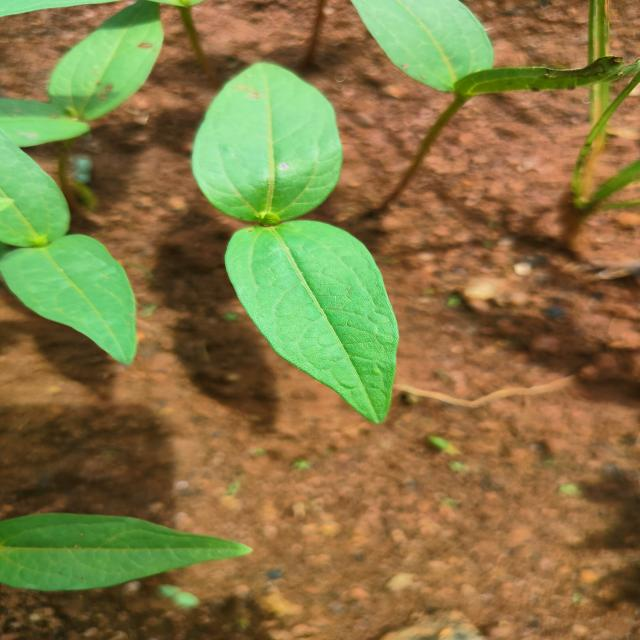Black gram_healthy: (227, 220, 400, 422), (193, 66, 346, 219), (0, 512, 258, 594), (9, 237, 136, 363), (40, 0, 168, 119), (358, 0, 494, 90), (0, 129, 72, 247)
